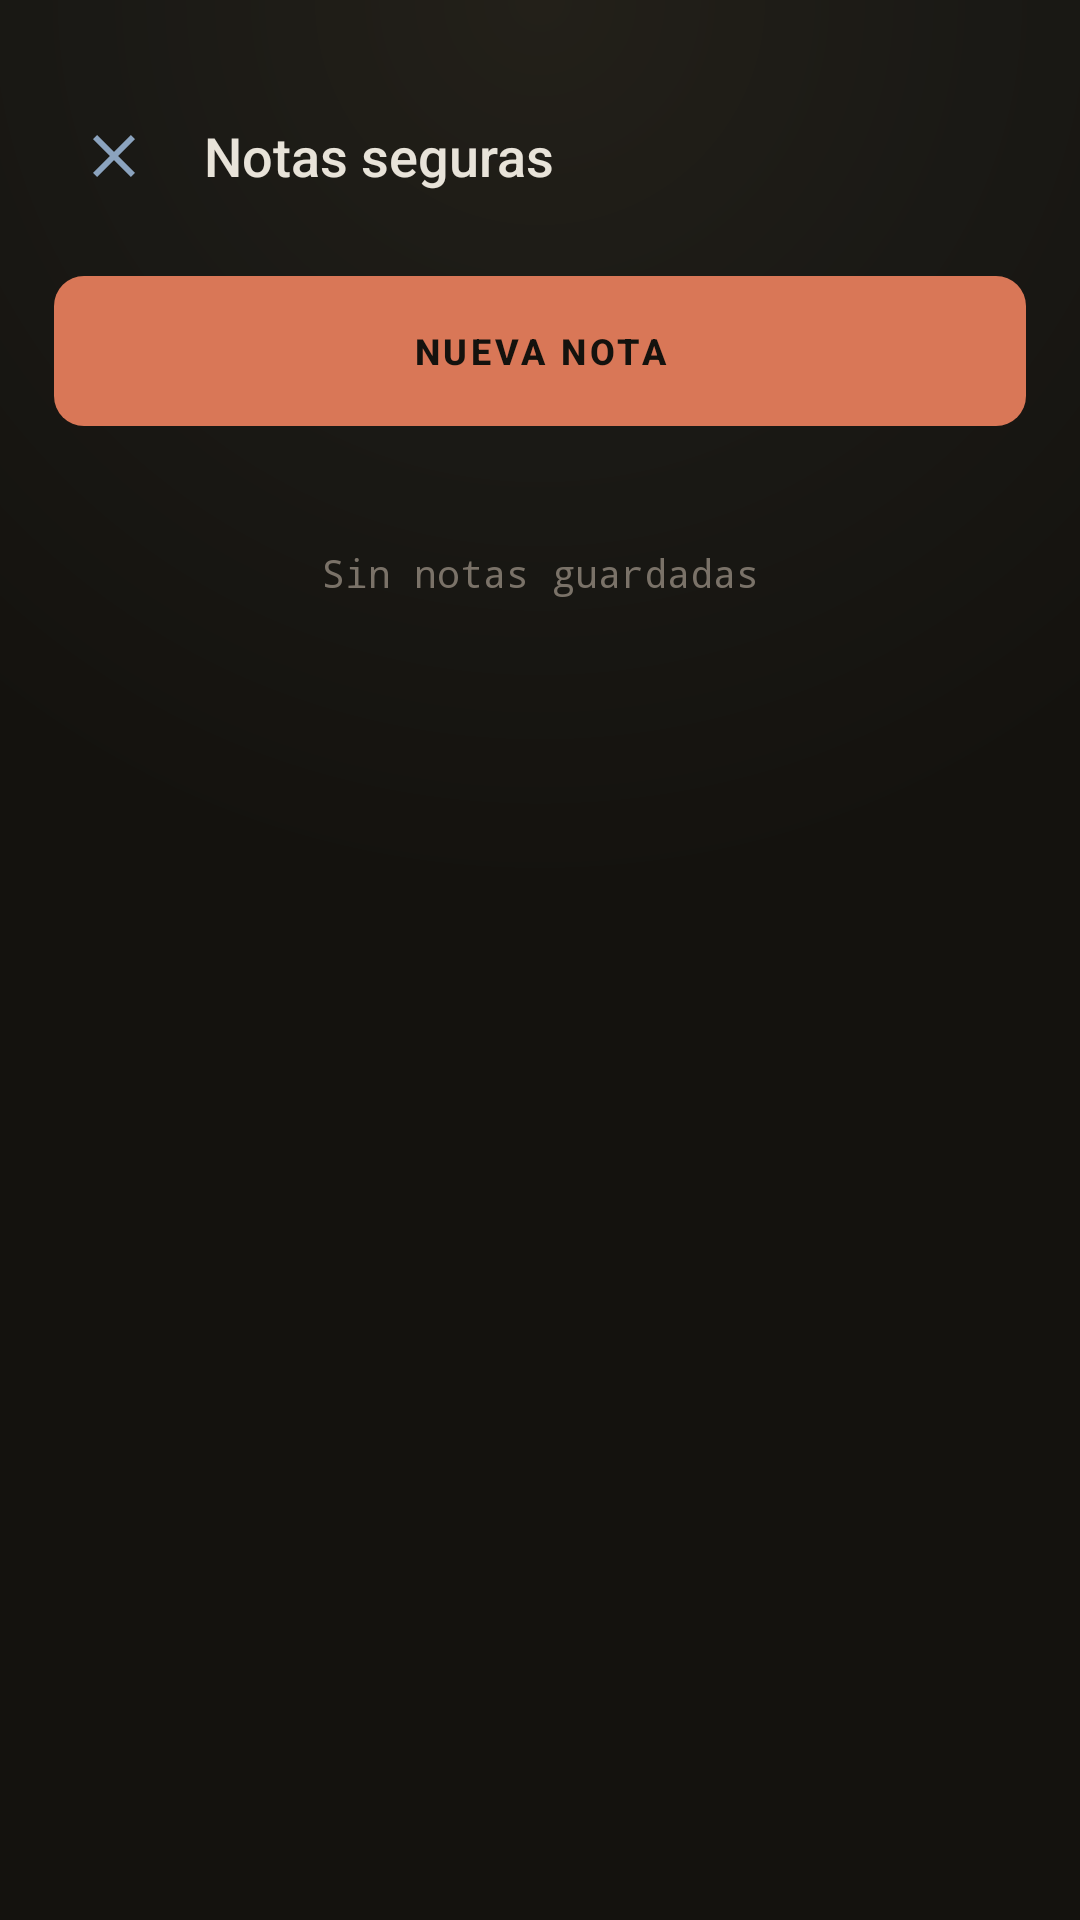

Locate icon controls on the screen. Image size 1080x1920, boxes as (x1, y1, x2, y2).
Volver: (93, 135, 135, 177)
